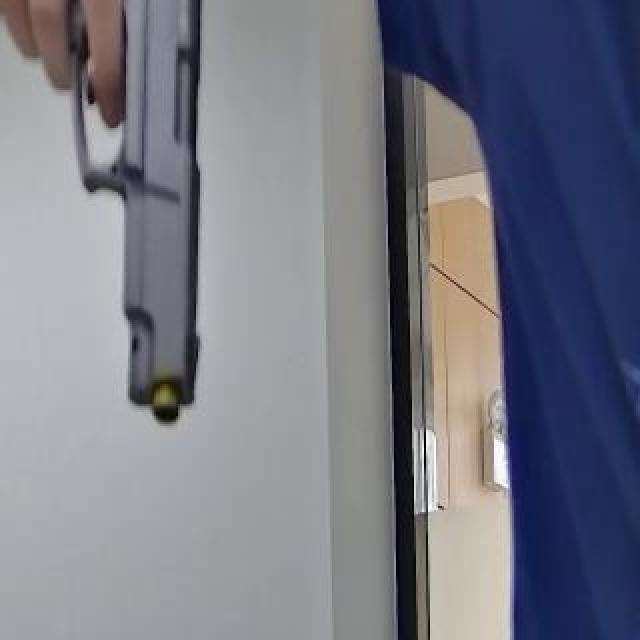Guns: (16, 0, 268, 490)
